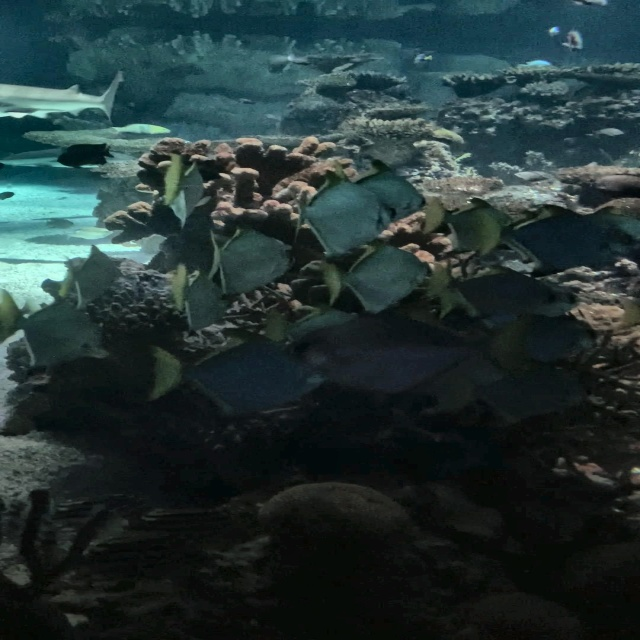fish: (139, 331, 335, 427), (287, 311, 470, 400), (307, 234, 427, 314), (478, 359, 595, 435), (1, 292, 119, 366), (445, 267, 587, 328), (290, 170, 392, 254), (484, 309, 610, 366), (491, 204, 599, 270), (40, 244, 142, 309), (192, 220, 290, 286), (435, 191, 520, 256), (158, 262, 236, 332), (345, 169, 431, 225), (563, 199, 639, 257), (155, 168, 219, 224), (258, 51, 313, 76), (543, 33, 601, 54), (407, 50, 437, 66)
shark: (0, 73, 123, 119)
